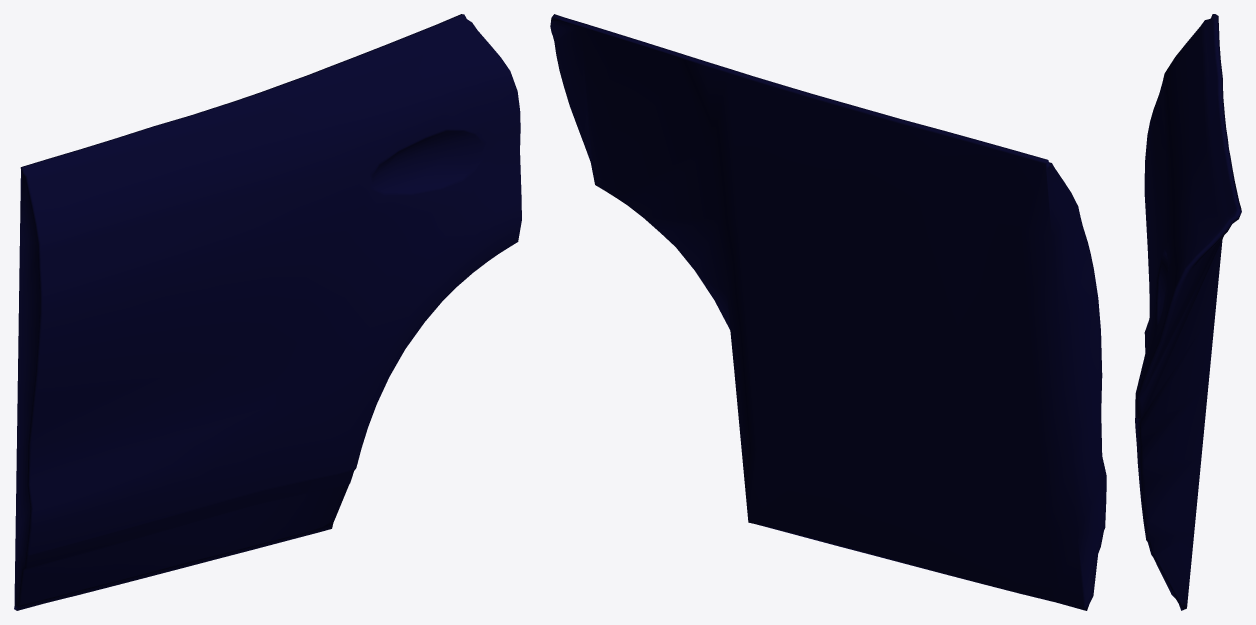
File: SM_Car_MenL2.FBX
3 views of the same model, side by side, from view 1: azimuth 30°, elevation 25°; view 2: azimuth 150°, elevation 25°; view 3: azimuth 270°, elevation 25° (orthographic). The views are drawn at different scales.
Parts seen in each view (by area): view 1: polySurface3524; view 2: polySurface3524; view 3: polySurface3524.
Boxes of the visible parts, x1,y1,x2,y2 form: polySurface3524: (14,14,521,610); polySurface3524: (550,14,1106,610); polySurface3524: (1135,14,1241,610).
Size of the model in its own units: 109 by 96.08 by 19.05.
